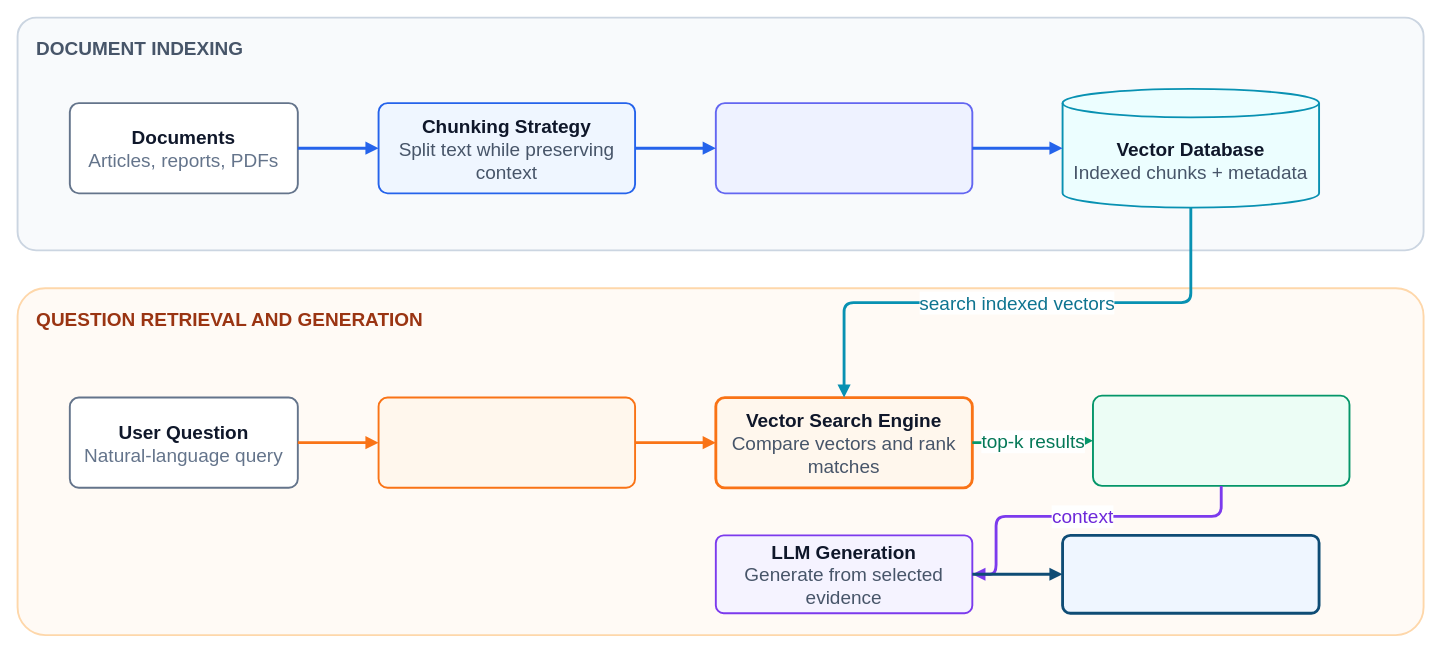
This 1440x652 diagram has some shape labels left out. The shapes that lost their labels are listed below. From the top down, each one's box as (x1, y1, x2, y2) in pixels, then its label:
(714, 102, 973, 194): Chunk Embeddings Convert chunks into vectors
(377, 396, 636, 488): Query Embedding Convert question into a vector
(1092, 394, 1350, 486): Relevant Chunks Top evidence + source metadata
(1061, 533, 1320, 614): Grounded Answer Response with citations
